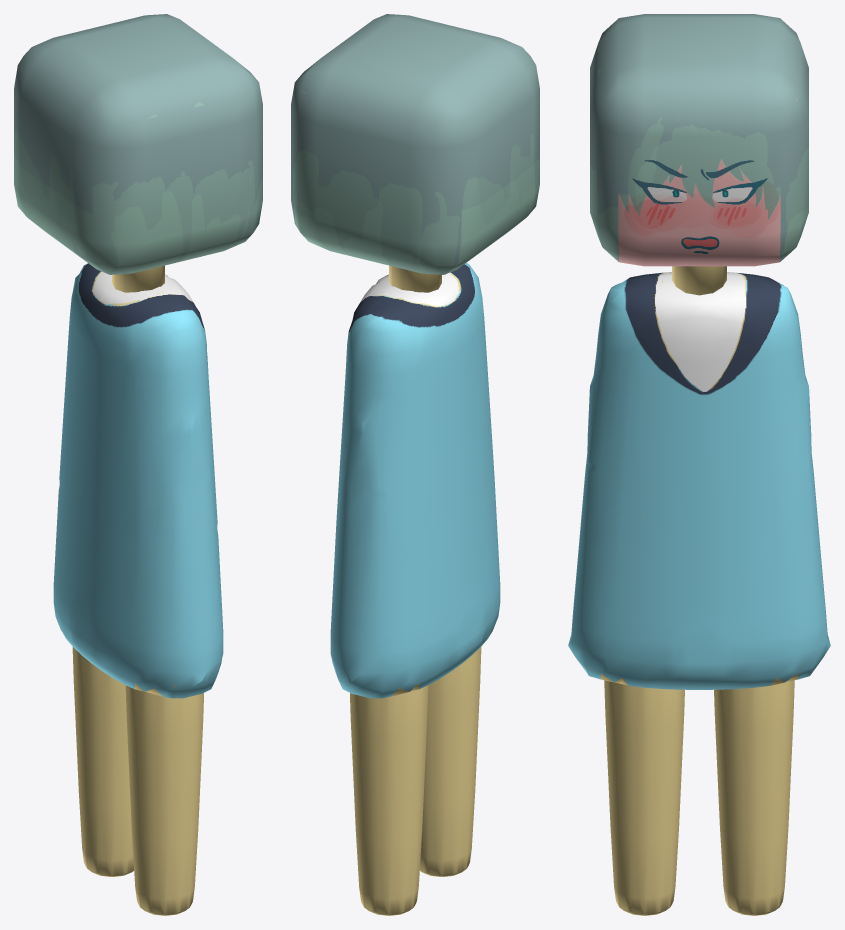
File: mobChara_till.fbx
3 views of the same model, side by side, from view 1: azimuth 30°, elevation 25°; view 2: azimuth 150°, elevation 25°; view 3: azimuth 270°, elevation 25° (orthographic). The views are drawn at different scales.
Parts seen in each view (by area): view 1: till; view 2: till; view 3: till.
Part boxes in pixels (<box>): till: <box>14,14,262,915</box>; till: <box>291,14,539,915</box>; till: <box>568,14,830,915</box>.
Size of the model in its own units: 100 by 436 by 120.
Materials: 2 (2 with a texture image).
